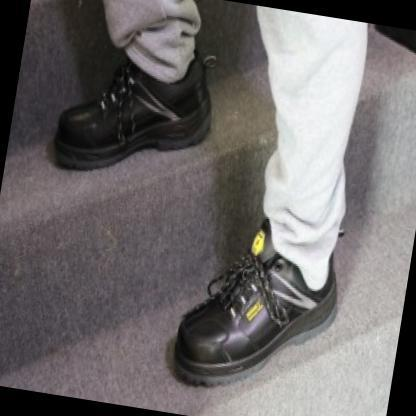safety-shoe: (152, 235, 359, 397), (46, 59, 234, 198)
